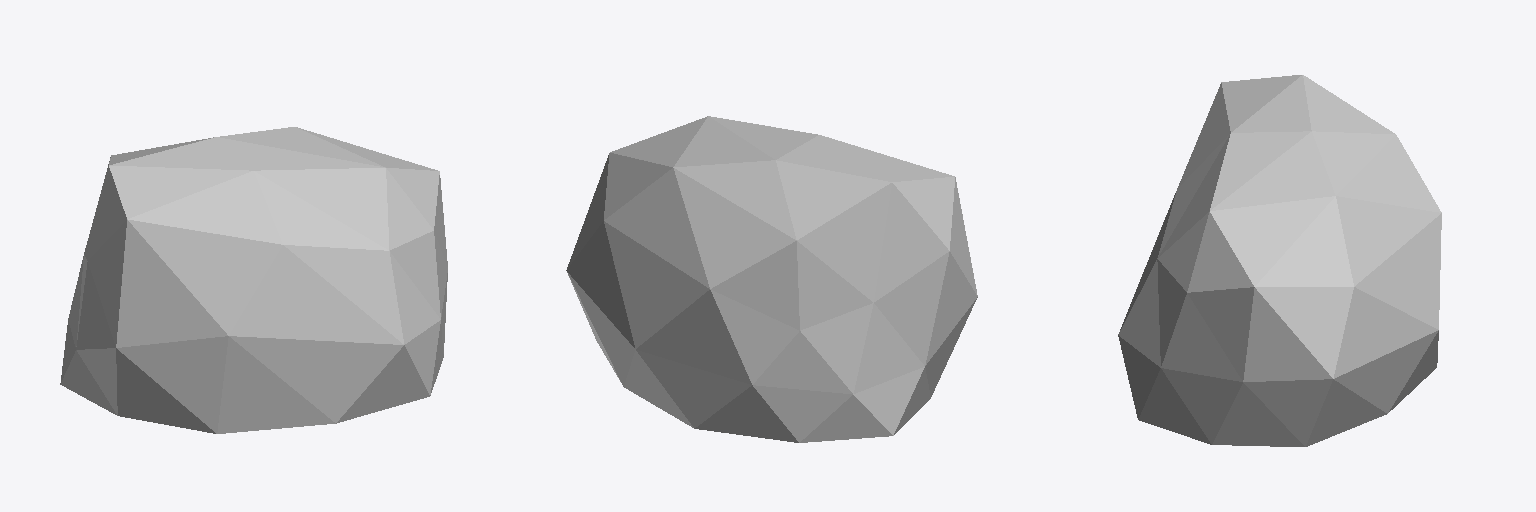
Rendered from rock2.obj.
3 renders of one model, left to right at view 1: azimuth 30°, elevation 25°; view 2: azimuth 150°, elevation 25°; view 3: azimuth 270°, elevation 25°, orthographic.
Parts seen in each view (by area): view 1: Icosphere.007; view 2: Icosphere.007; view 3: Icosphere.007.
Part boxes in pixels (x1,y1,x2,y2): Icosphere.007: (60,127,447,433); Icosphere.007: (566,116,977,442); Icosphere.007: (1118,75,1441,446).
Size of the model in its own units: 0.7147 by 0.4496 by 0.5725.